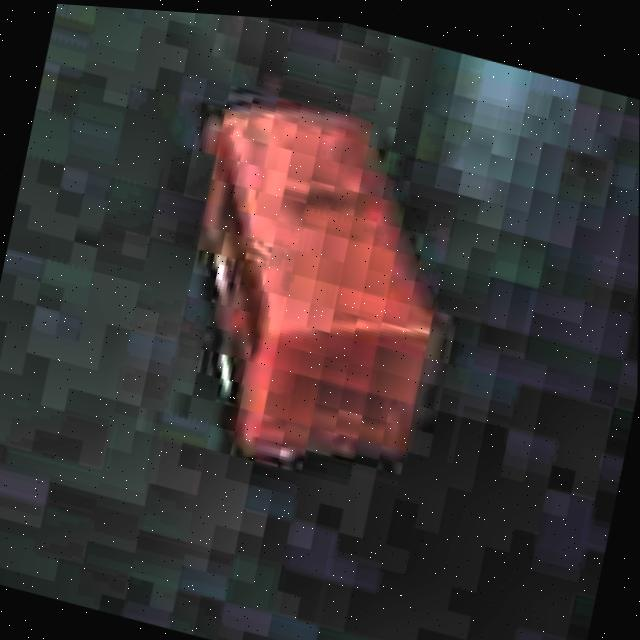bus: (138, 60, 479, 501)
